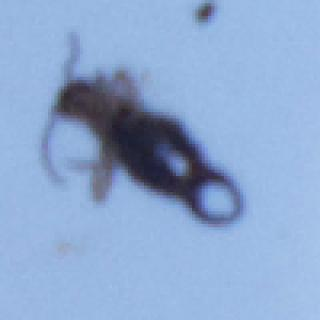earwig: (31, 26, 256, 228)
